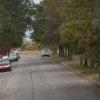Car: (39, 45, 53, 61)
